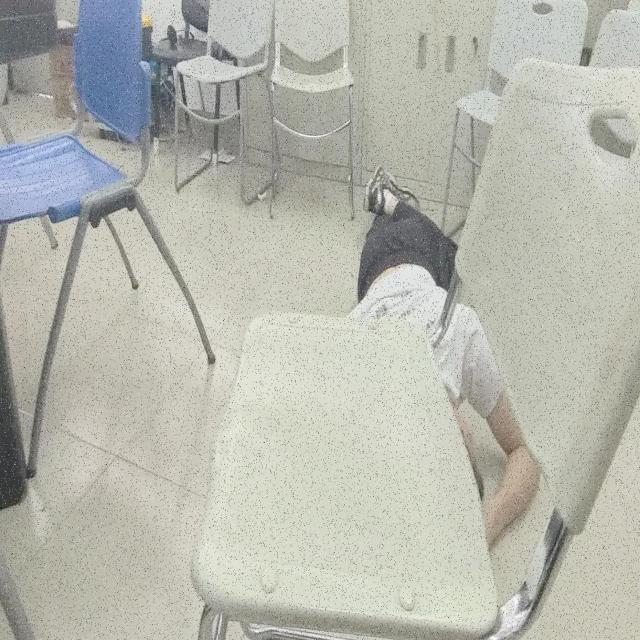fall: (346, 162, 541, 546)
